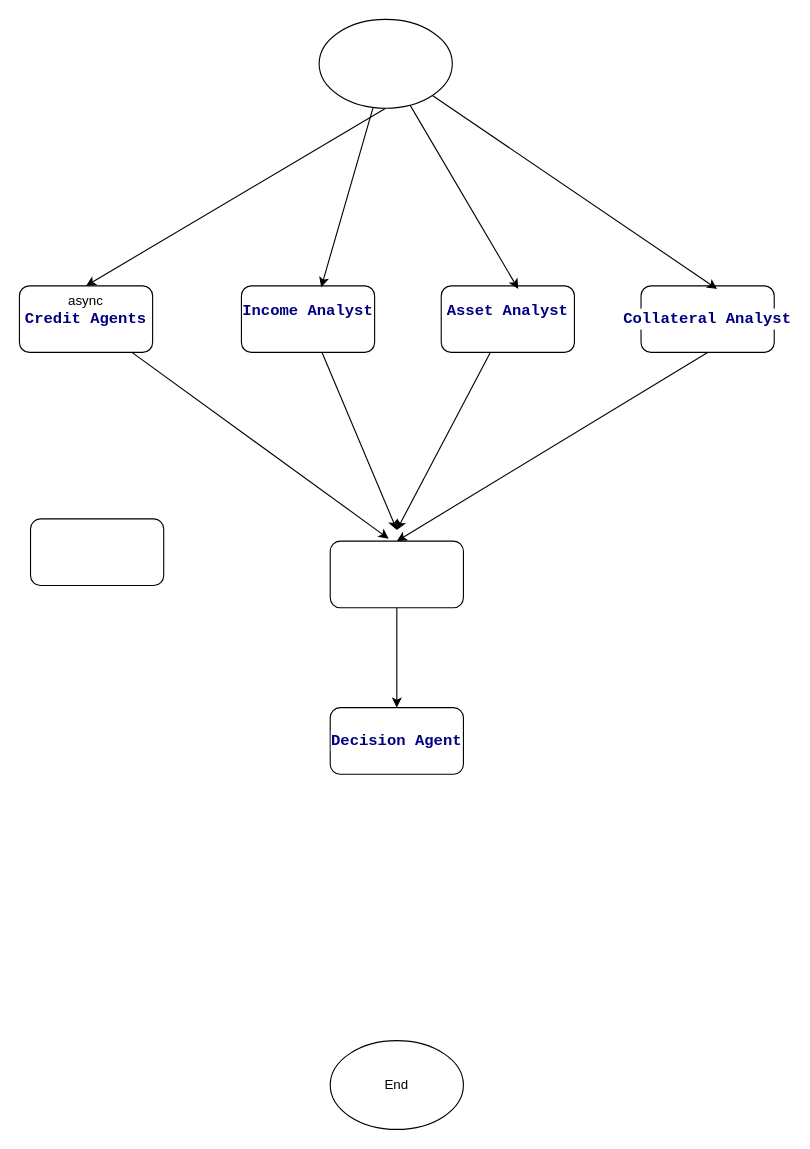
Some shapes in this 810 by 1149 pixel diagram are drawn without their labels. The shapes that lost their labels are listed below. From the top down, each one's centre as x and y in pixels, then its label:
(385,63): Start
(96,552): Supervisor Agent
(396,574): Critic Agent
